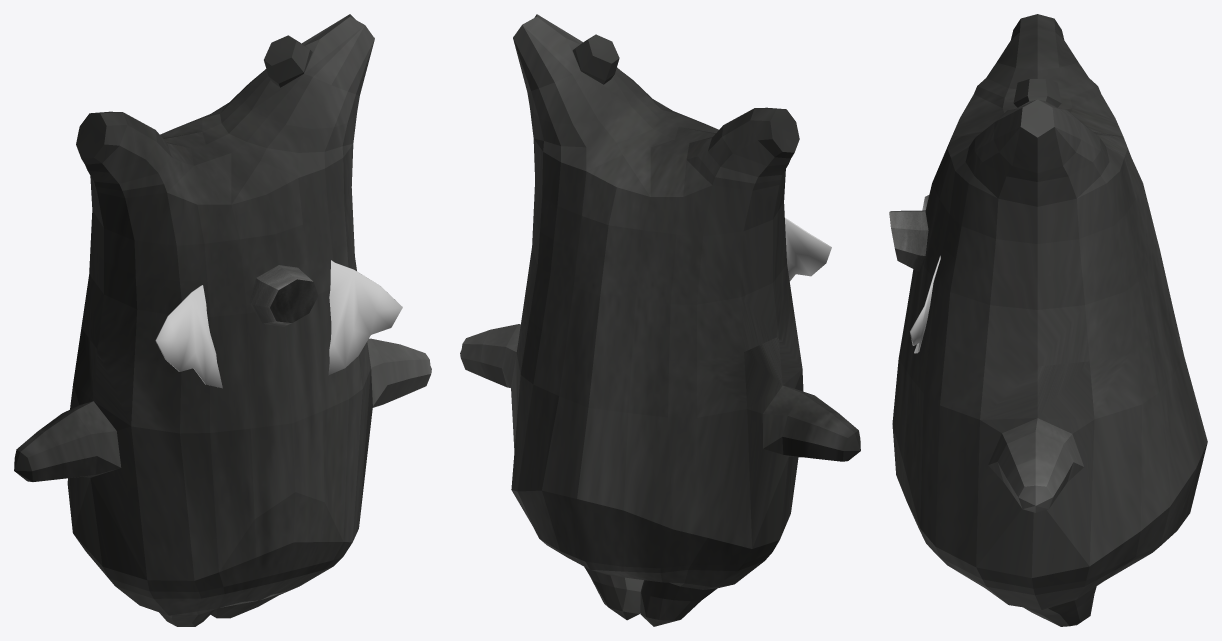
File: frame_0003.obj
The picture shows the model from 3 angles, left to right: view 1: azimuth 30°, elevation 25°; view 2: azimuth 150°, elevation 25°; view 3: azimuth 270°, elevation 25°; orthographic projection. The views are drawn at different scales.
Parts seen in each view (by area): view 1: korok, leaf, nose; view 2: korok, leaf; view 3: korok, nose, leaf.
Part boxes in pixels (left/top/right/bottom): korok: left=14, top=14, right=431, bottom=626; leaf: left=155, top=260, right=402, bottom=388; nose: left=249, top=265, right=318, bottom=326; korok: left=460, top=14, right=860, bottom=626; leaf: left=785, top=218, right=831, bottom=281; korok: left=892, top=14, right=1207, bottom=626; nose: left=889, top=210, right=928, bottom=271; leaf: left=910, top=195, right=940, bottom=353.
Size of the model in its own units: 1.77 by 2.37 by 1.18.
